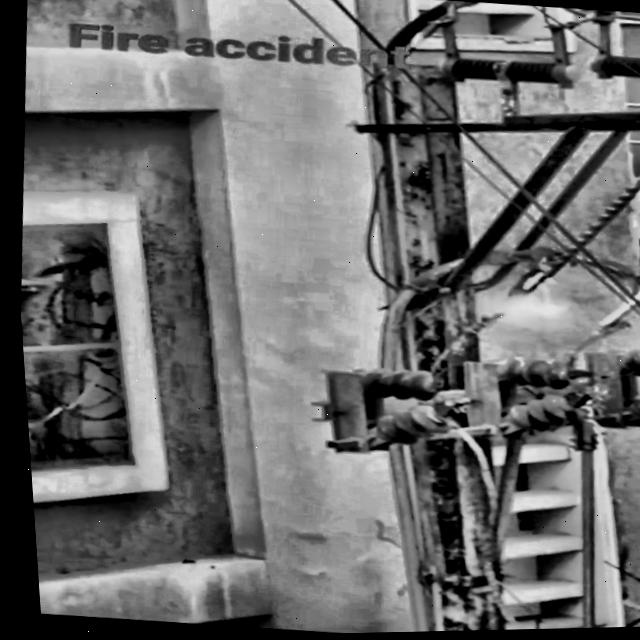Fire: (469, 275, 580, 338)
